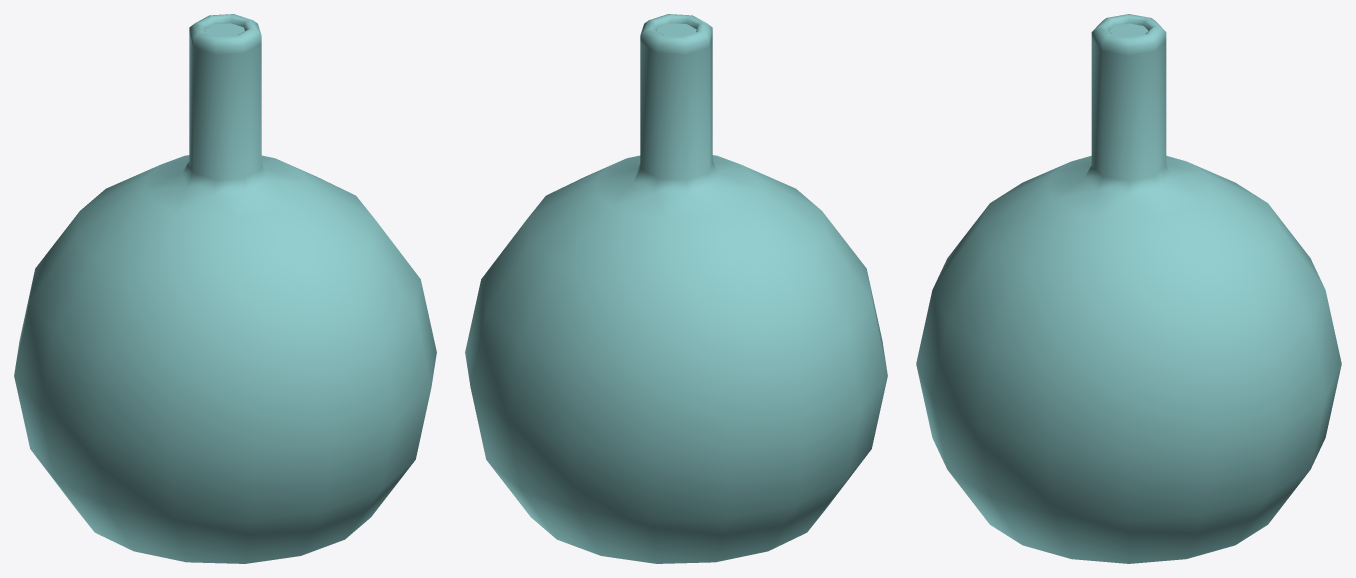
File: bottle-2.fbx
3 renders of one model, left to right at view 1: azimuth 30°, elevation 25°; view 2: azimuth 150°, elevation 25°; view 3: azimuth 270°, elevation 25°, orthographic.
Parts seen in each view (by area): view 1: Bottle; view 2: Bottle; view 3: Bottle.
Boxes of the visible parts, x1,y1,x2,y2 form: Bottle: (14,14,436,563); Bottle: (465,14,887,563); Bottle: (916,14,1341,563).
Bounding box in the file's own units: 27 × 34.36 × 27.
